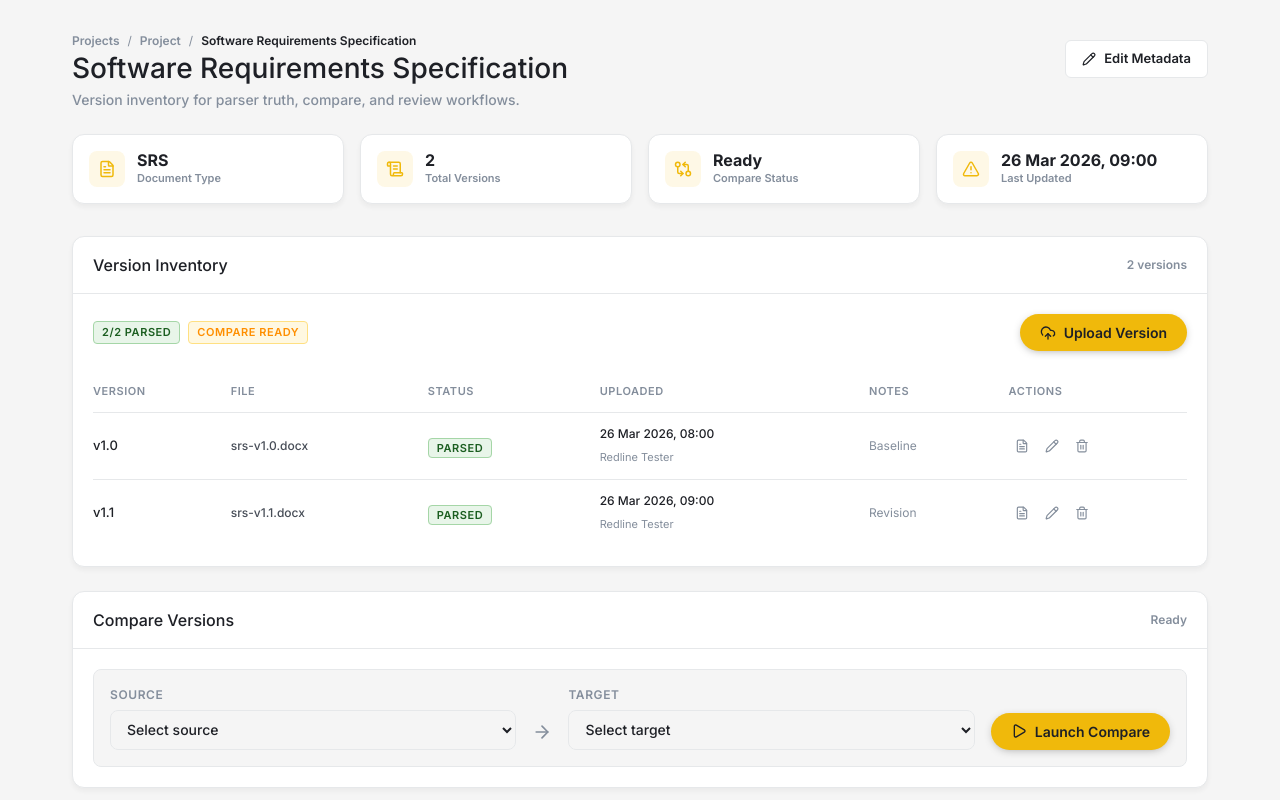
Test: DocumentDetailPage › deletes a version and refreshes compare readiness from the live inventory
The image size is (1280, 800).
Expected: the text "v1.0" is shown, [93,436,118,455]
Step 1. Click the button named "delete" in the row of "srs-v1.0.docx" → [1082, 446], box [1068,432,1094,458]
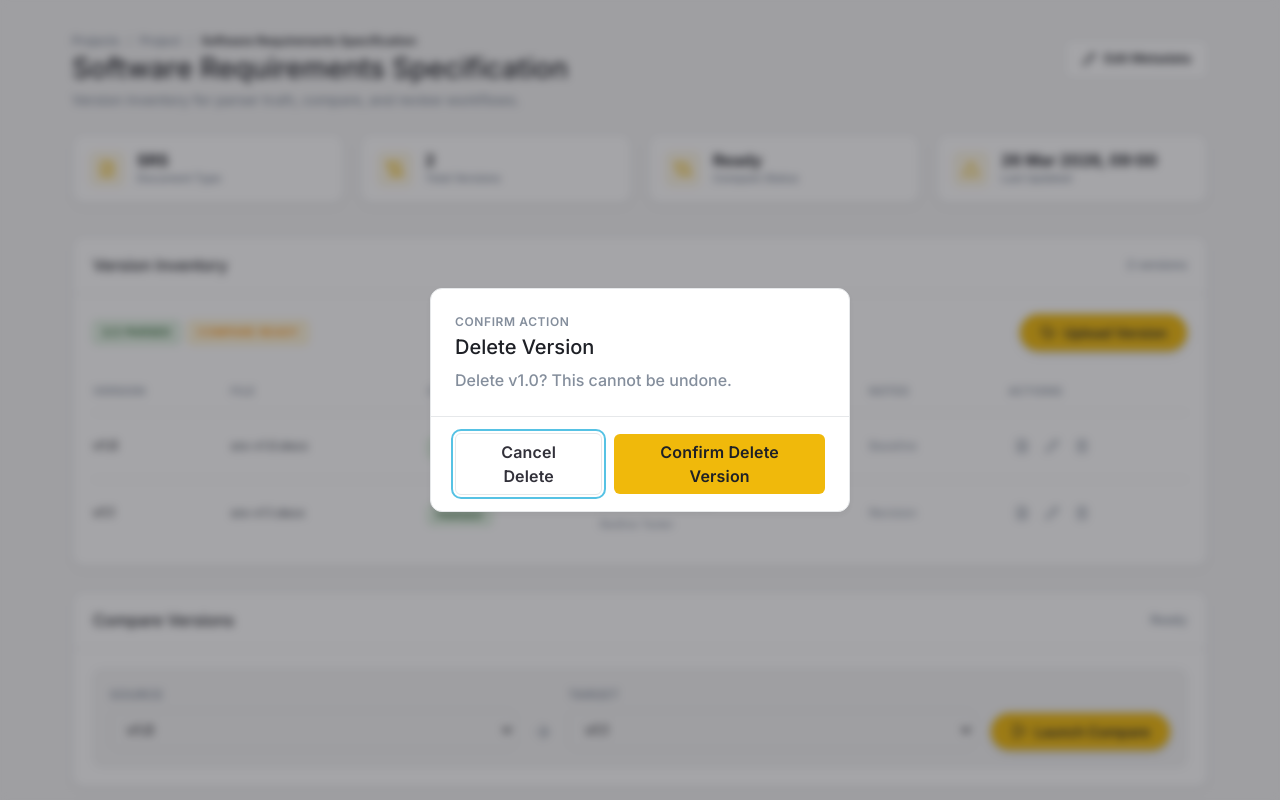
Now the dialog "Delete Version" is shown, box [430,288,850,512]
Step 2. Click the button "Confirm Delete Version" → [720, 464], box [614,434,825,494]
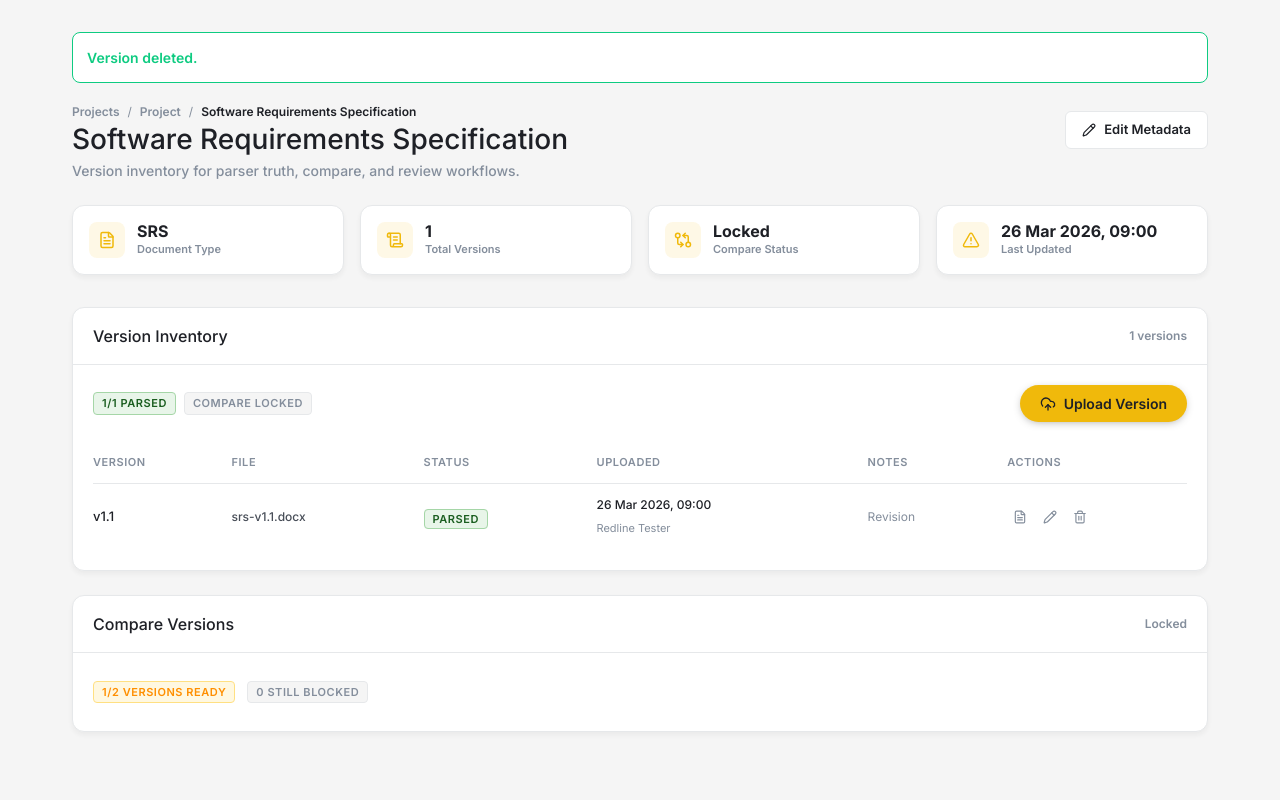
Now the text "1/1 parsed" is shown, box [93,392,176,415]
Now the text "1/2 versions ready" is shown, box [93,680,235,703]
Now the button "Launch Compare" is gone
